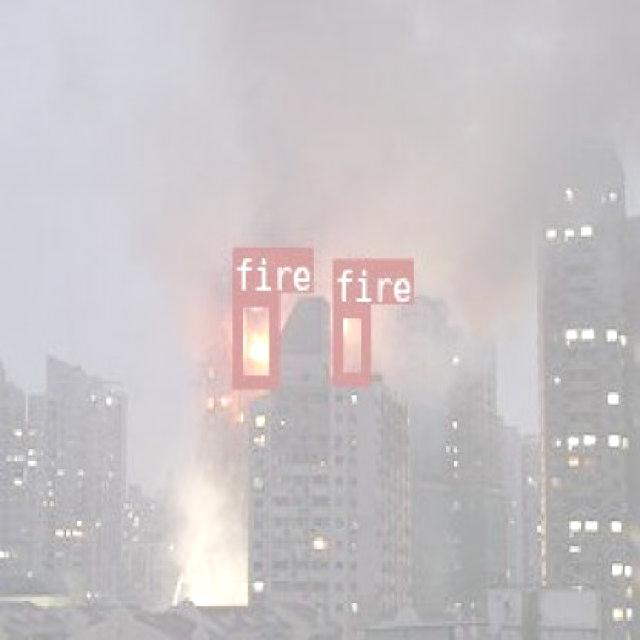fire: (230, 292, 276, 386), (332, 304, 368, 382)
